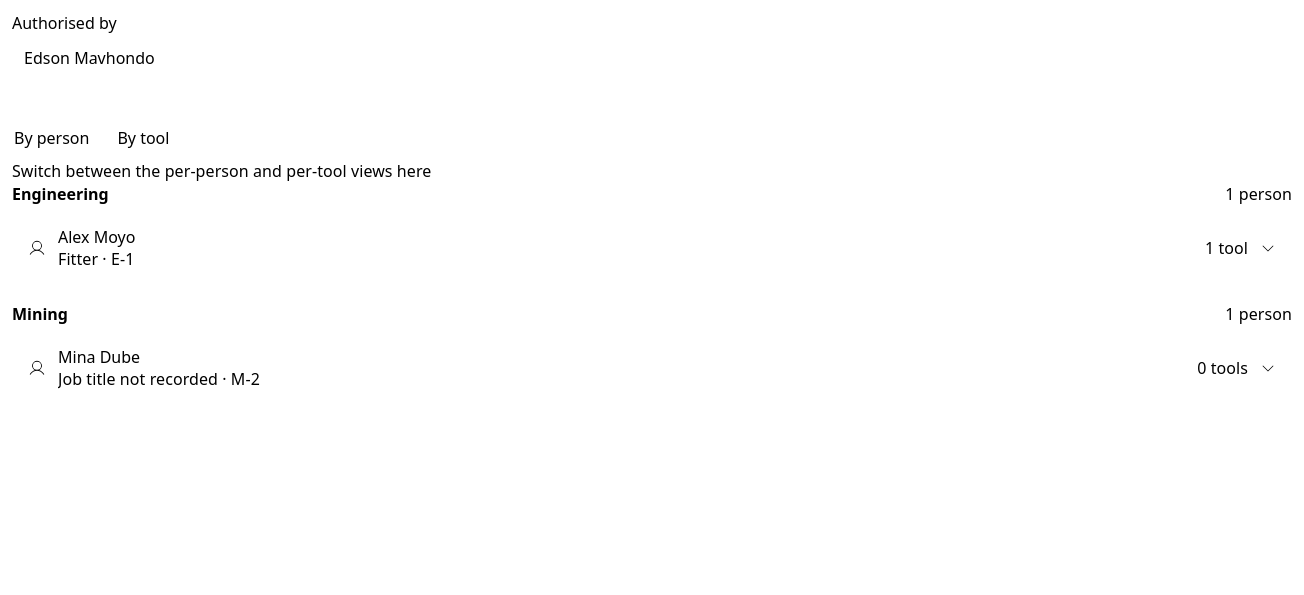
it: ToolsPeople › shows each tool with the people eligible for it
The width and height of the screenshot is (1304, 595).
Click the tab "By tool" at point(143, 138), box [115, 118, 171, 158]
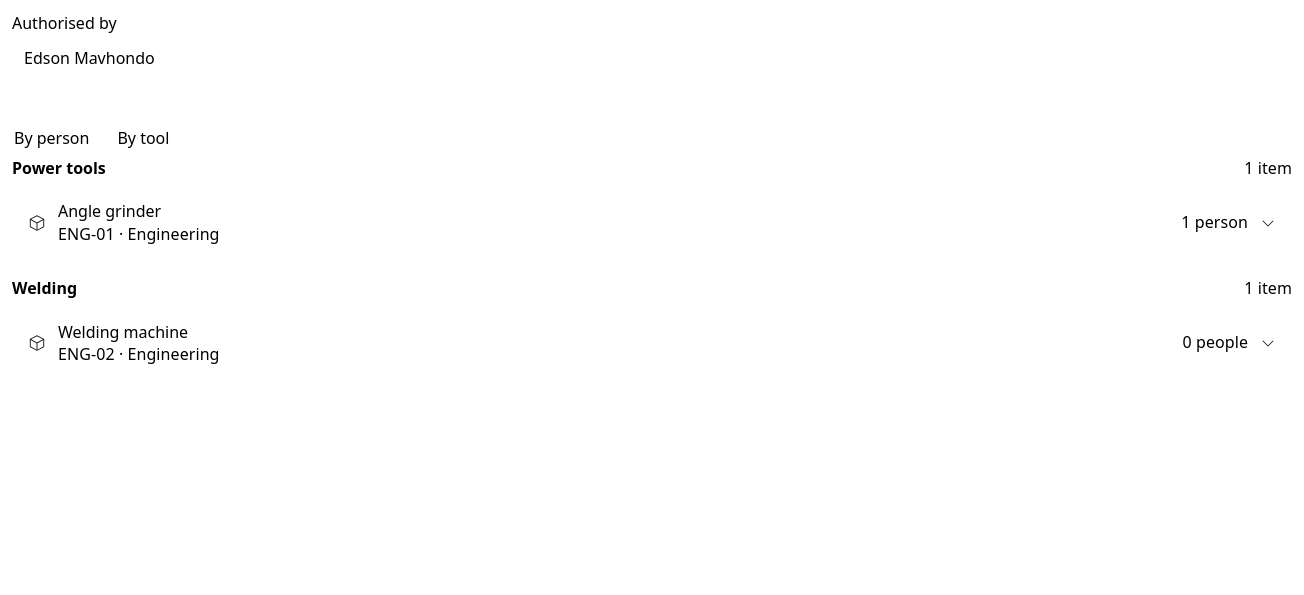
Check: the heading "Power tools" is shown, box [12, 157, 106, 180]
Check: the text "1 person" is shown, box [1181, 212, 1248, 234]
Click the button "Angle grinder ENG-01 · Engineering 1 person" at point(110, 211), box [12, 188, 1292, 257]
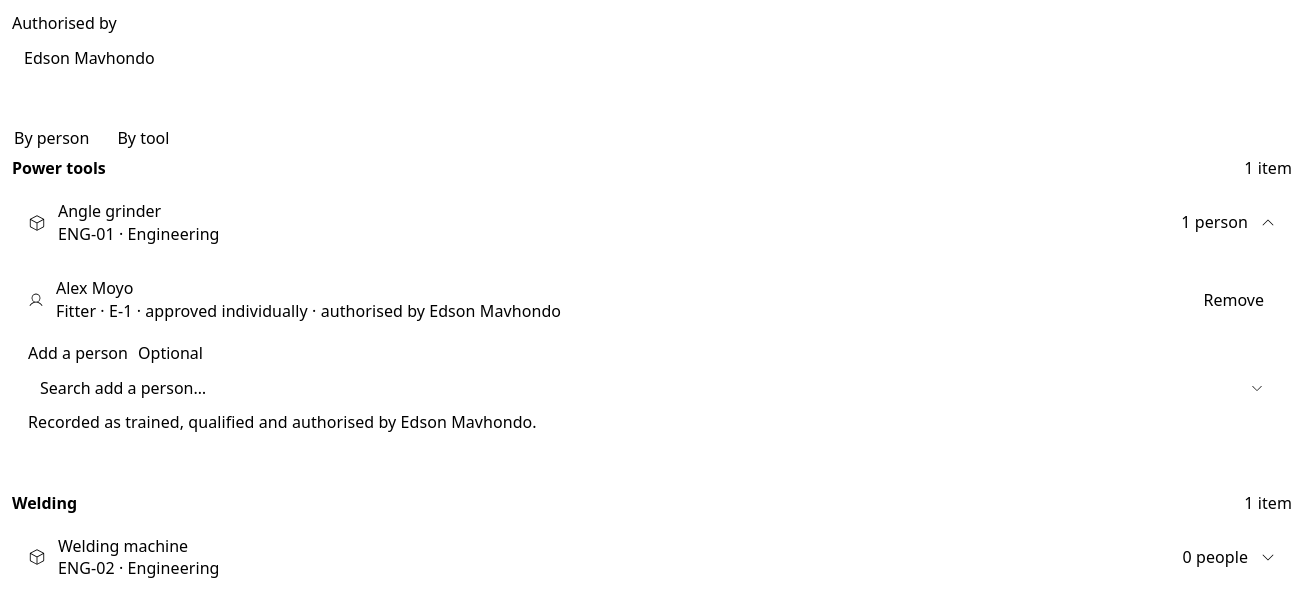
Check: the text "0 people" is shown, box [1182, 547, 1248, 568]
Check: the text "Alex Moyo" is shown, box [56, 277, 133, 299]
